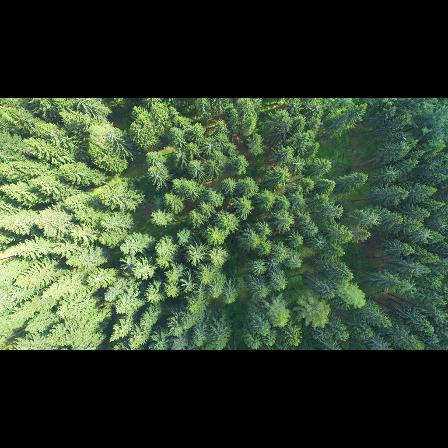Sick: (116, 256, 139, 275), (178, 273, 196, 294), (309, 235, 328, 253), (247, 259, 267, 276), (200, 139, 218, 157), (419, 227, 434, 242)
